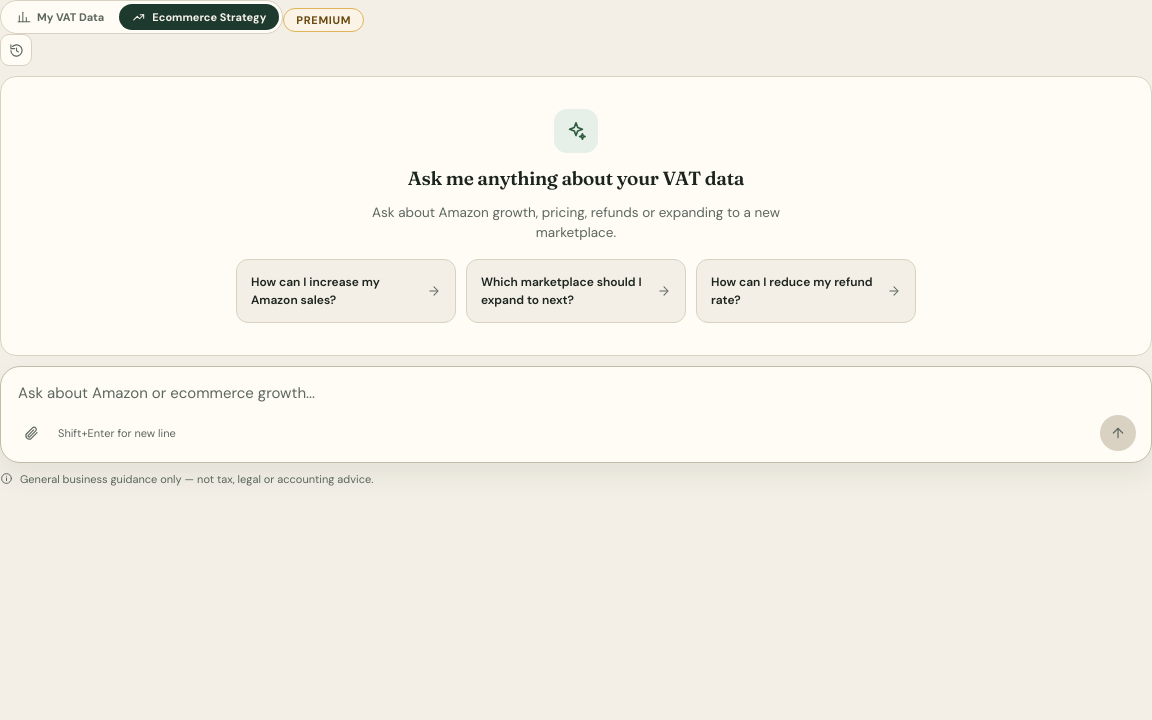
AnalystPage › conversation history › explains the empty state when nothing is saved
This screenshot has width=1152, height=720.
Click the button named "History": {"x": 16, "y": 50} [0,34,32,66]
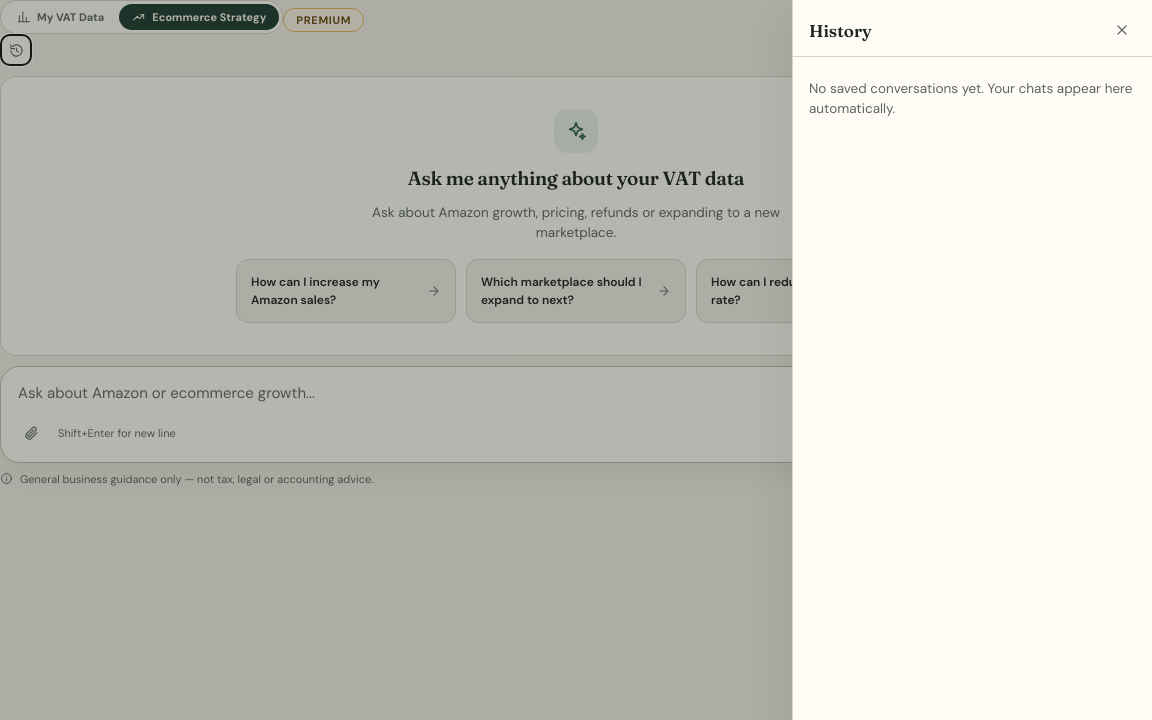
Now the text "No saved conversations yet" is shown, box [809,80,1132,117]
